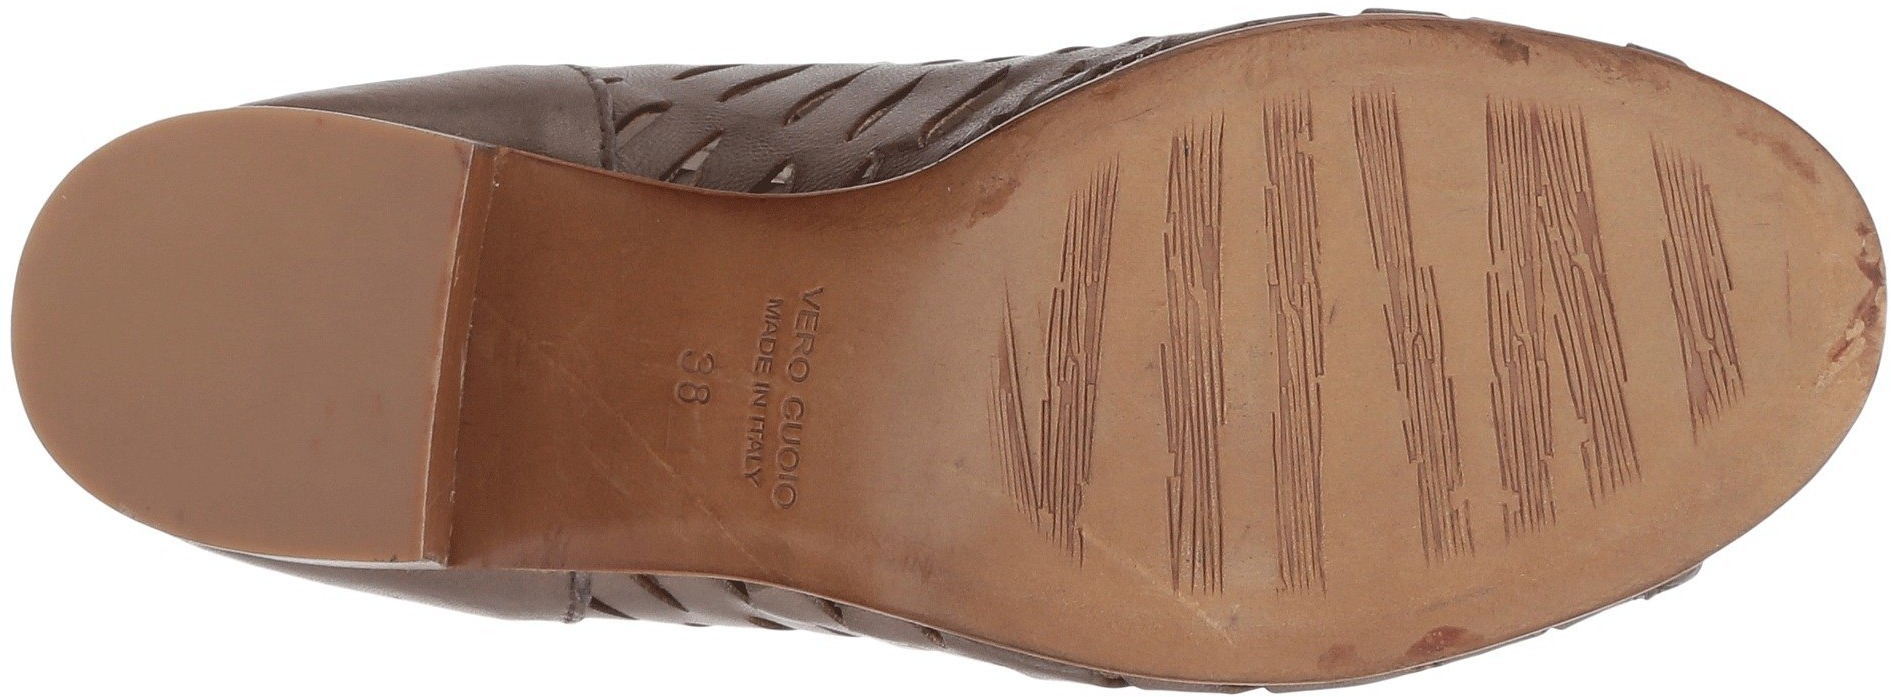line: (1036, 127, 1460, 551), (1473, 177, 1741, 437)
other: (201, 127, 427, 353), (201, 367, 387, 553), (28, 238, 197, 418)
